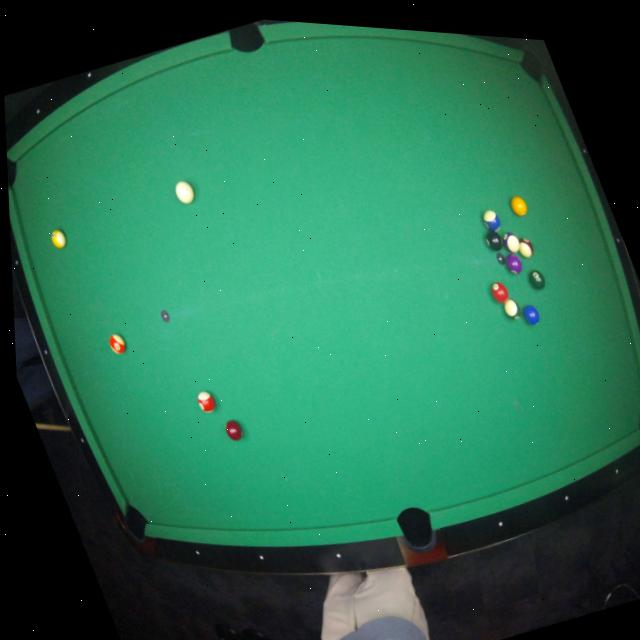cue ball: (170, 174, 202, 211)
other: (223, 413, 252, 447), (194, 386, 221, 420), (44, 225, 73, 255), (500, 294, 526, 324), (106, 329, 131, 359), (488, 278, 513, 308), (480, 205, 505, 234), (508, 192, 532, 220), (500, 229, 524, 257), (483, 228, 507, 255), (503, 250, 526, 277), (526, 266, 549, 293), (520, 302, 543, 328), (515, 234, 537, 261)
